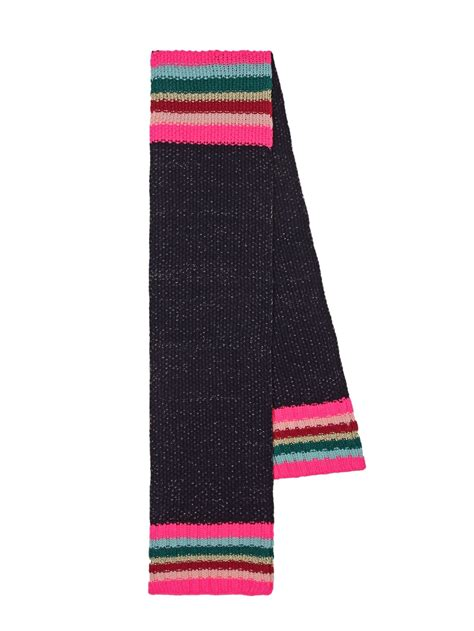flexible: (148, 48, 370, 595)
